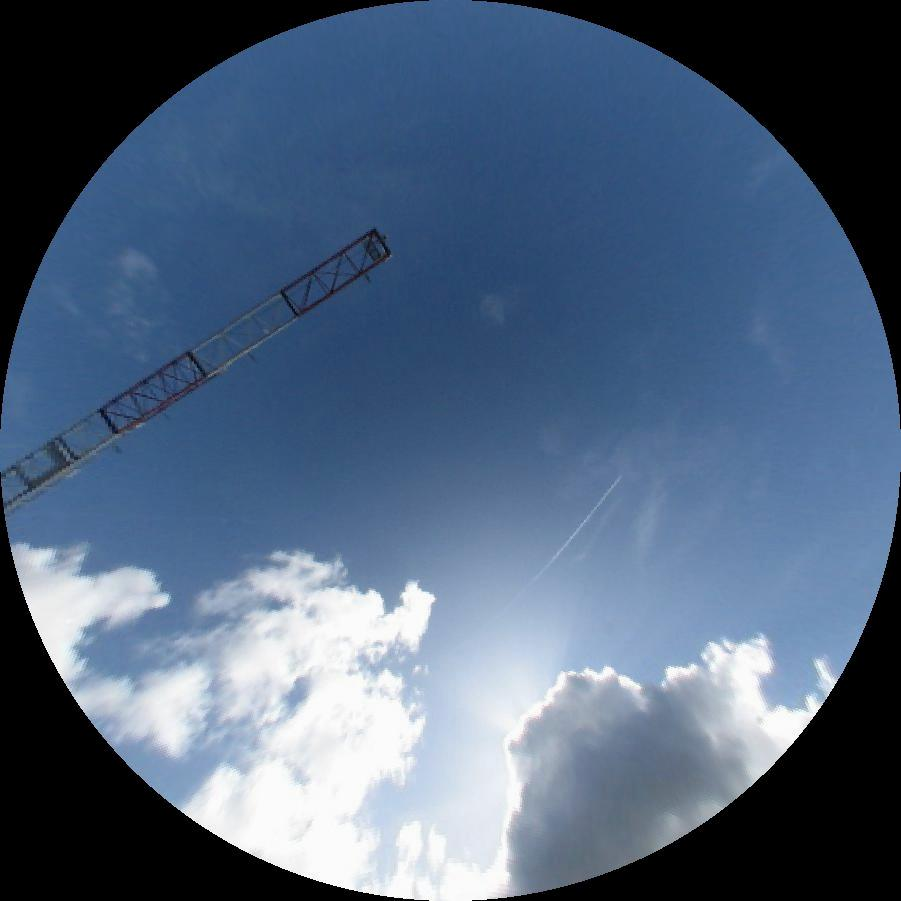contrail young: (488, 474, 626, 629)
